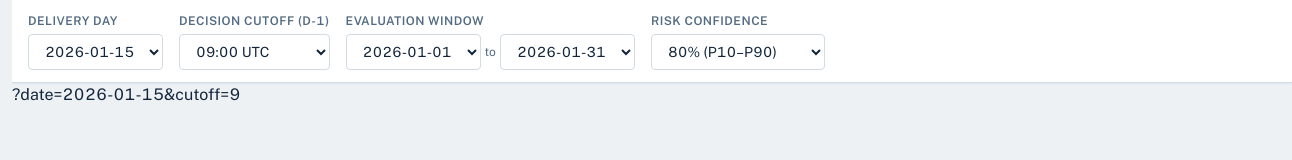
Scenario: ControlStrip › renders with default values and allows changing delivery date
Select "2026-01-20" in the dropdown labelled "Delivery Day": (96, 52) x1=28 y1=34 x2=163 y2=70
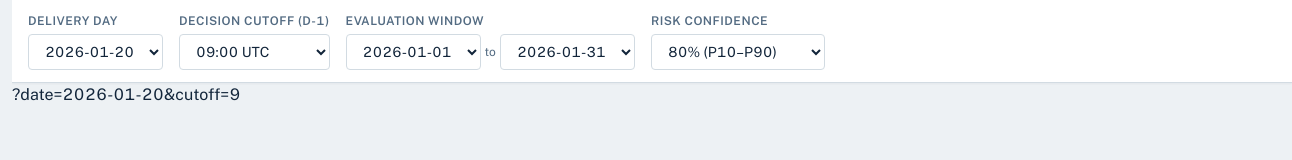
expect the text with test id "location-search" shows "date=2026-01-20": met, box x1=12 y1=85 x2=240 y2=104
